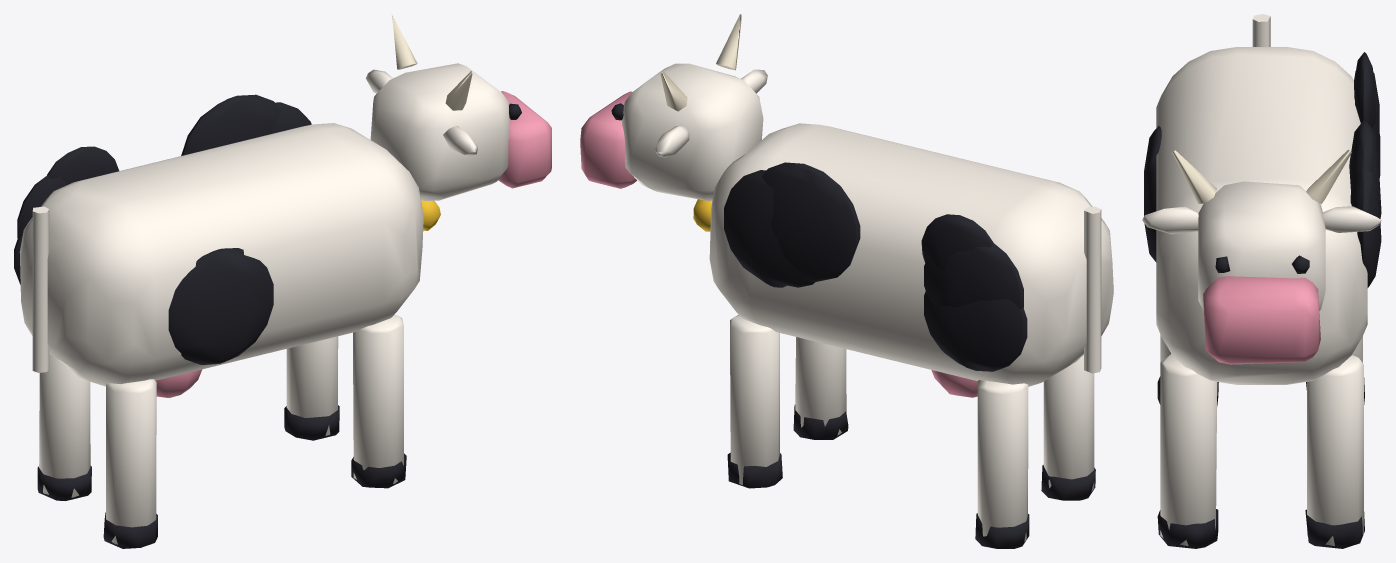
The model's file is cow.glb.
3 renders of one model, left to right at view 1: azimuth 30°, elevation 25°; view 2: azimuth 150°, elevation 25°; view 3: azimuth 270°, elevation 25°, orthographic. The views are drawn at different scales.
Visible parts, largest first — view 1: cow; view 2: cow; view 3: cow.
Part boxes in pixels (x1=…): cow: x1=14, y1=14, x2=551, y2=548; cow: x1=580, y1=14, x2=1113, y2=548; cow: x1=1142, y1=14, x2=1381, y2=548.
Bounding box in the file's own units: 2.63 × 1.96 × 0.9798.
Materials: 1 (1 with a texture image).
